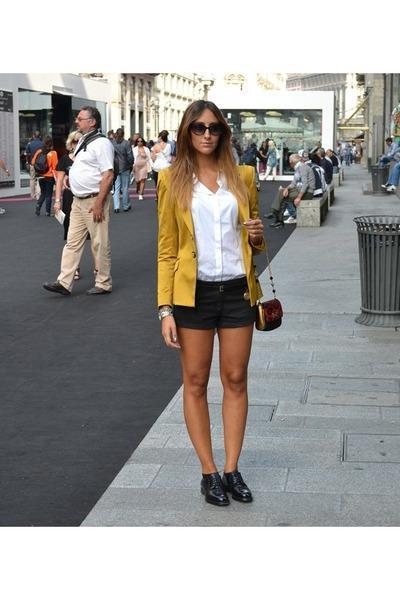Shorts: (159, 275, 259, 330)
jacket: (149, 158, 267, 308)
short sleeve shirt: (176, 169, 243, 284)
